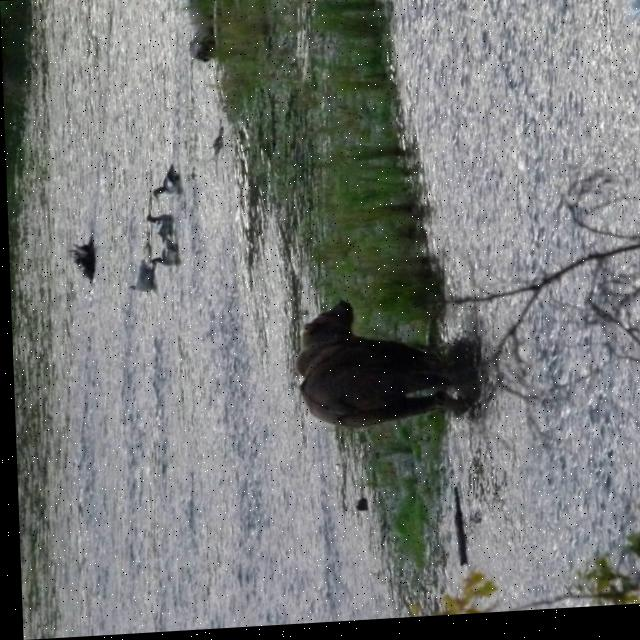bear face: (295, 300, 457, 431)
